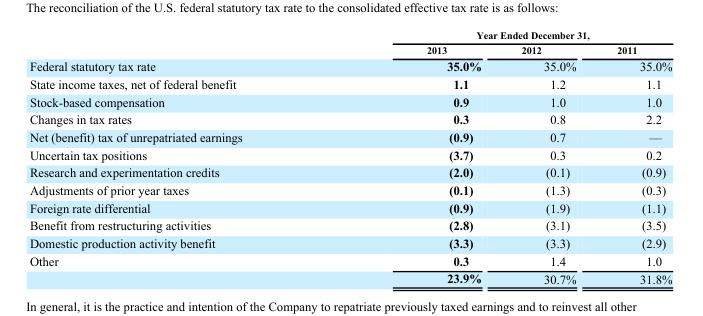table: (28, 29, 671, 285)
table column: (28, 29, 333, 285), (333, 29, 500, 285), (500, 29, 595, 285), (595, 29, 671, 285)
table column header: (28, 29, 671, 57)
table row: (28, 74, 671, 92), (28, 92, 671, 110), (28, 127, 671, 145), (28, 145, 671, 163), (28, 180, 671, 198), (28, 198, 671, 216), (28, 233, 671, 251), (28, 251, 671, 269), (28, 57, 671, 74), (28, 110, 671, 127), (28, 163, 671, 180), (28, 216, 671, 233), (28, 269, 671, 285), (28, 42, 671, 57), (28, 29, 671, 42)
table spanning cell: (333, 29, 671, 42)
